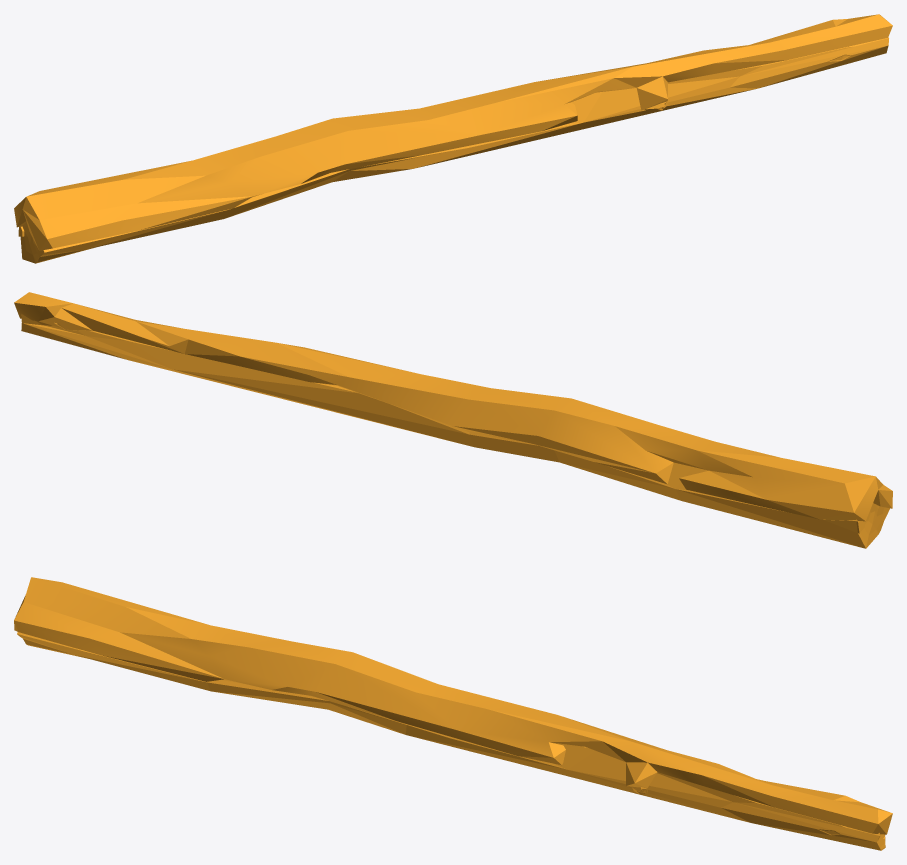
Rendered from SM_Tree_Spruce_Log_A_Snow.fbx.
3 views of the same model, one above another, from view 1: azimuth 30°, elevation 25°; view 2: azimuth 150°, elevation 25°; view 3: azimuth 330°, elevation 25° (orthographic).
Visible parts, largest first — view 1: tree-spruce-log-a-snow; view 2: tree-spruce-log-a-snow; view 3: tree-spruce-log-a-snow.
Boxes of the visible parts, left/top/right/bottom form: tree-spruce-log-a-snow: left=14, top=14, right=892, bottom=263; tree-spruce-log-a-snow: left=14, top=292, right=892, bottom=548; tree-spruce-log-a-snow: left=14, top=577, right=892, bottom=850.
Size of the model in its own units: 8.2 by 0.621 by 0.616.
